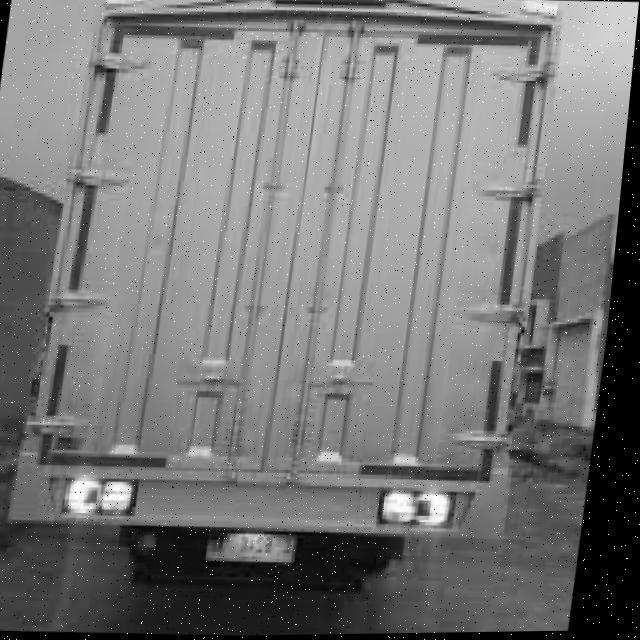truck: (1, 1, 584, 572)
